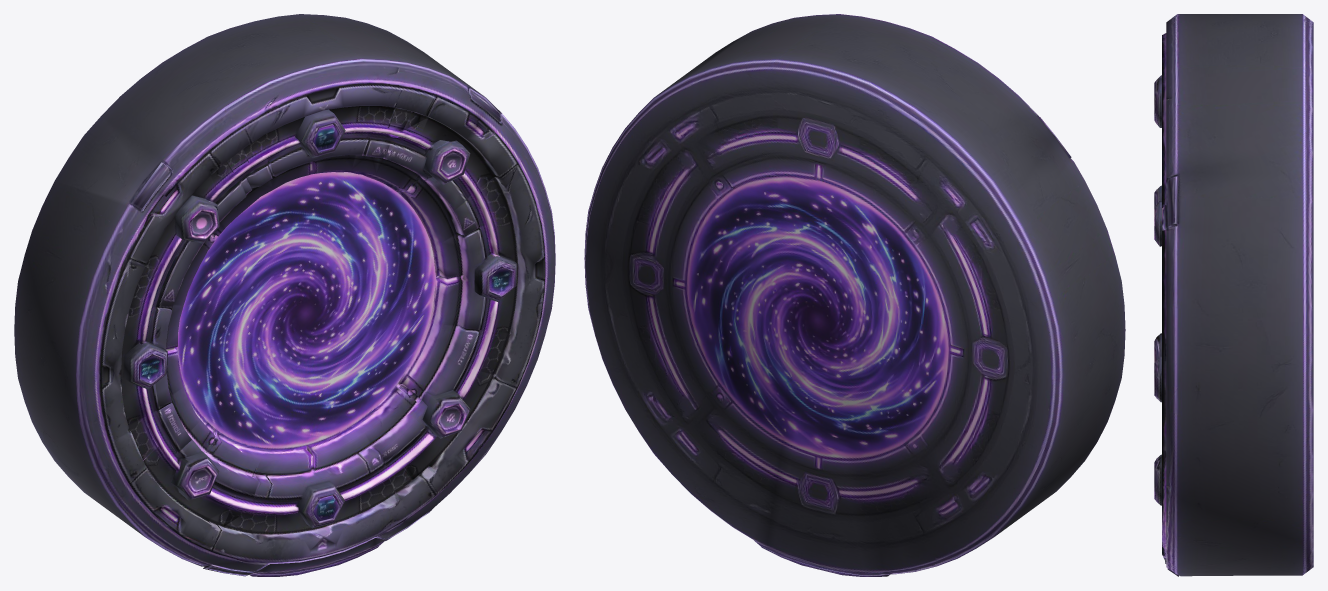
Rendered from selected.glb.
3 views of the same model, side by side, from view 1: azimuth 30°, elevation 25°; view 2: azimuth 150°, elevation 25°; view 3: azimuth 270°, elevation 25° (orthographic).
Parts seen in each view (by area): view 1: tripo_node_f30e7aa2-bf95-49e7-9ec3-f93ef4d48301; view 2: tripo_node_f30e7aa2-bf95-49e7-9ec3-f93ef4d48301; view 3: tripo_node_f30e7aa2-bf95-49e7-9ec3-f93ef4d48301.
Part boxes in pixels (x1,y1,x2,y2): tripo_node_f30e7aa2-bf95-49e7-9ec3-f93ef4d48301: (14,14,555,576); tripo_node_f30e7aa2-bf95-49e7-9ec3-f93ef4d48301: (584,14,1125,576); tripo_node_f30e7aa2-bf95-49e7-9ec3-f93ef4d48301: (1154,14,1313,576).
Size of the model in its own units: 0.998 by 0.998 by 0.2832.
Materials: 1 (1 with a texture image).
